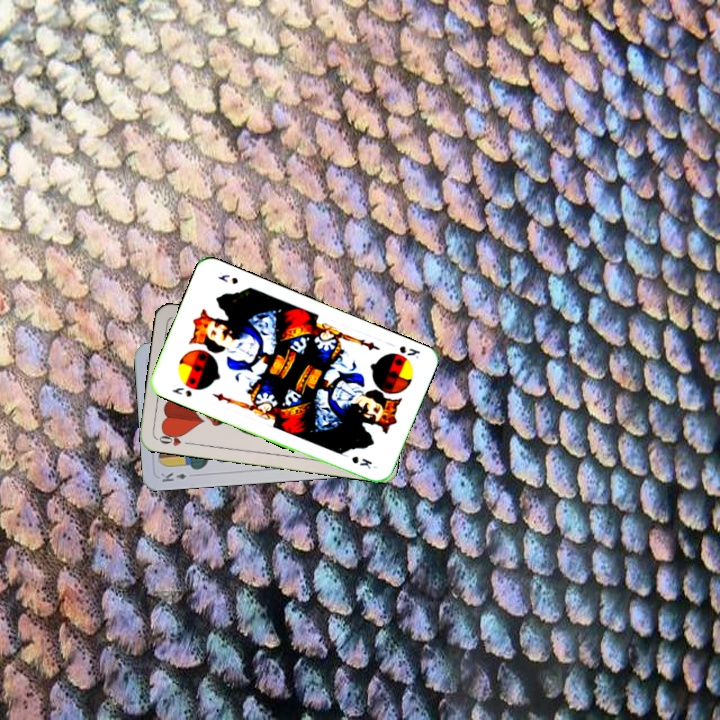EK: (157, 469, 189, 485)
HO: (153, 428, 194, 448)
SK: (395, 342, 423, 361), (168, 383, 194, 399)
